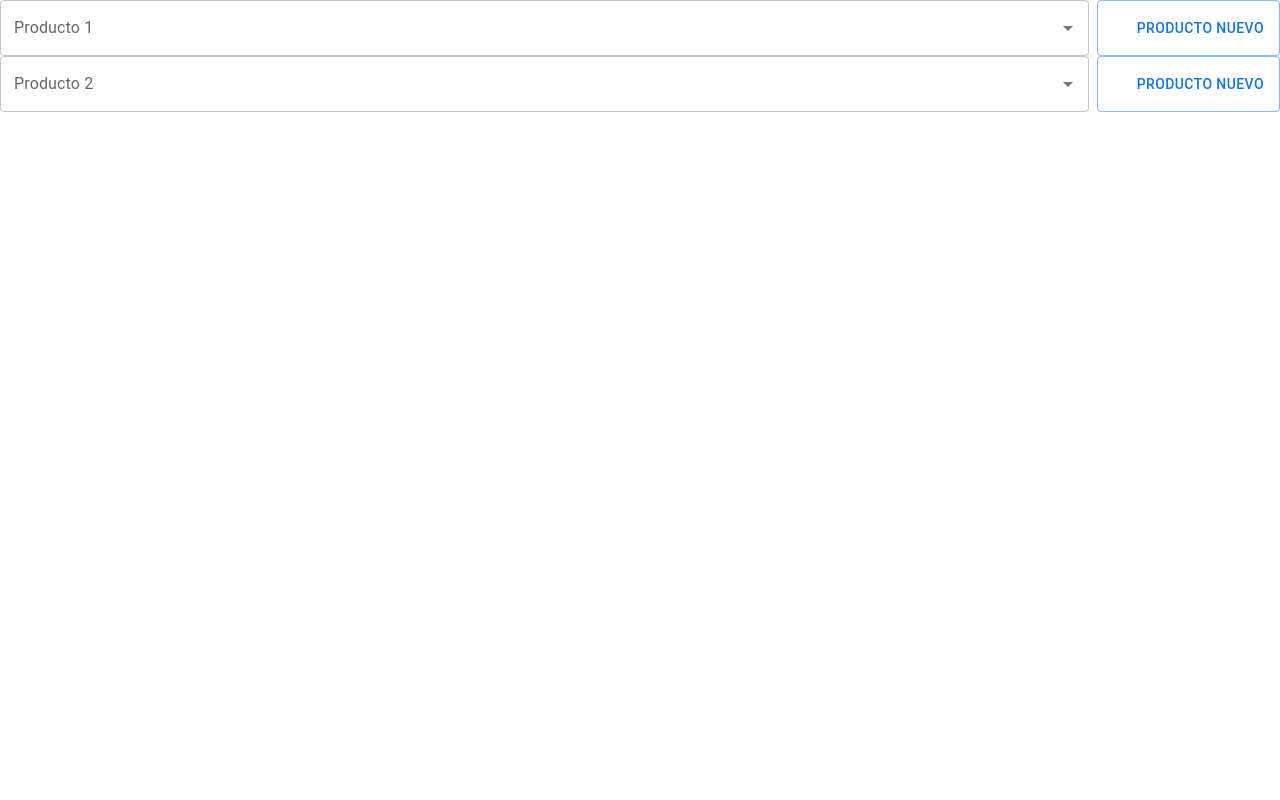
Test: ProductSelect › no crea sin categoría
Click the button "Producto nuevo" in the row of "Producto 1". click: (1188, 28)
box: [1097,0,1279,56]
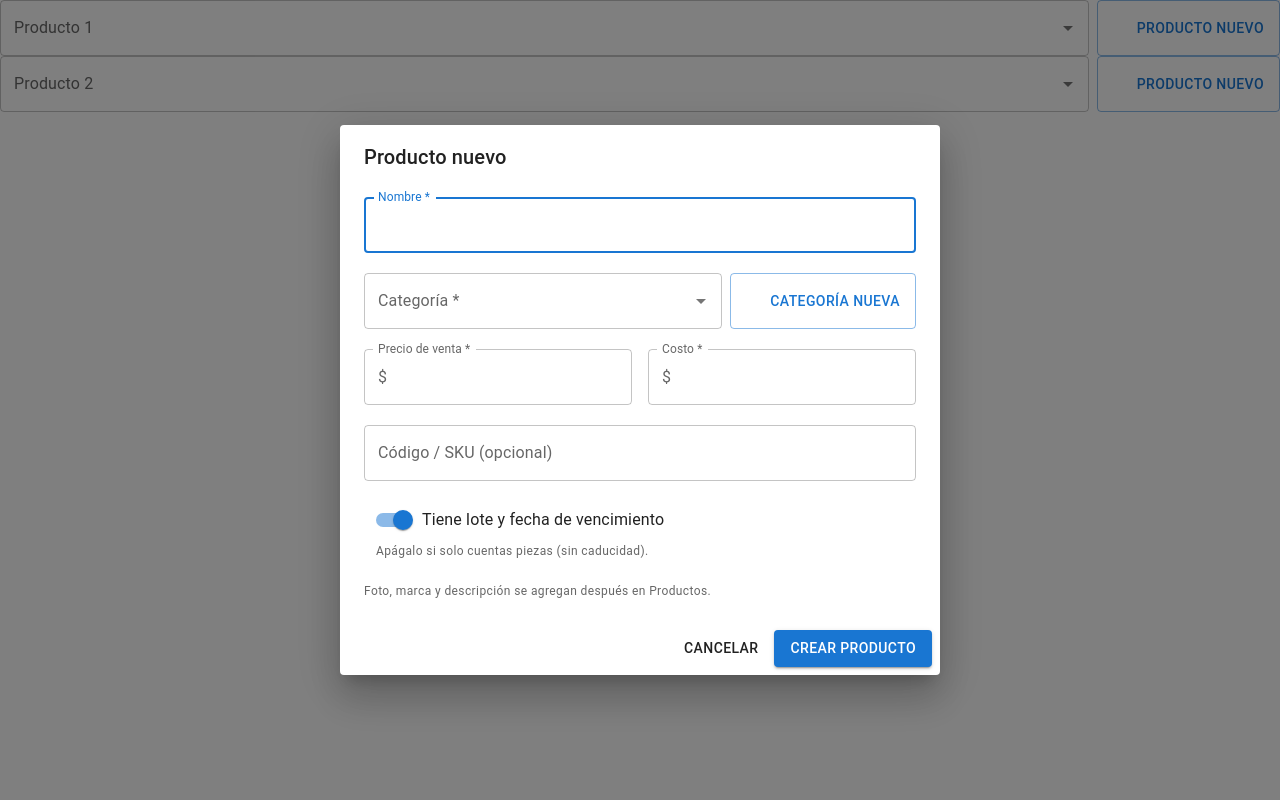
Type "Grillos" into the field labelled "Nombre *". click: (640, 225)
box: [364,197,916,253]
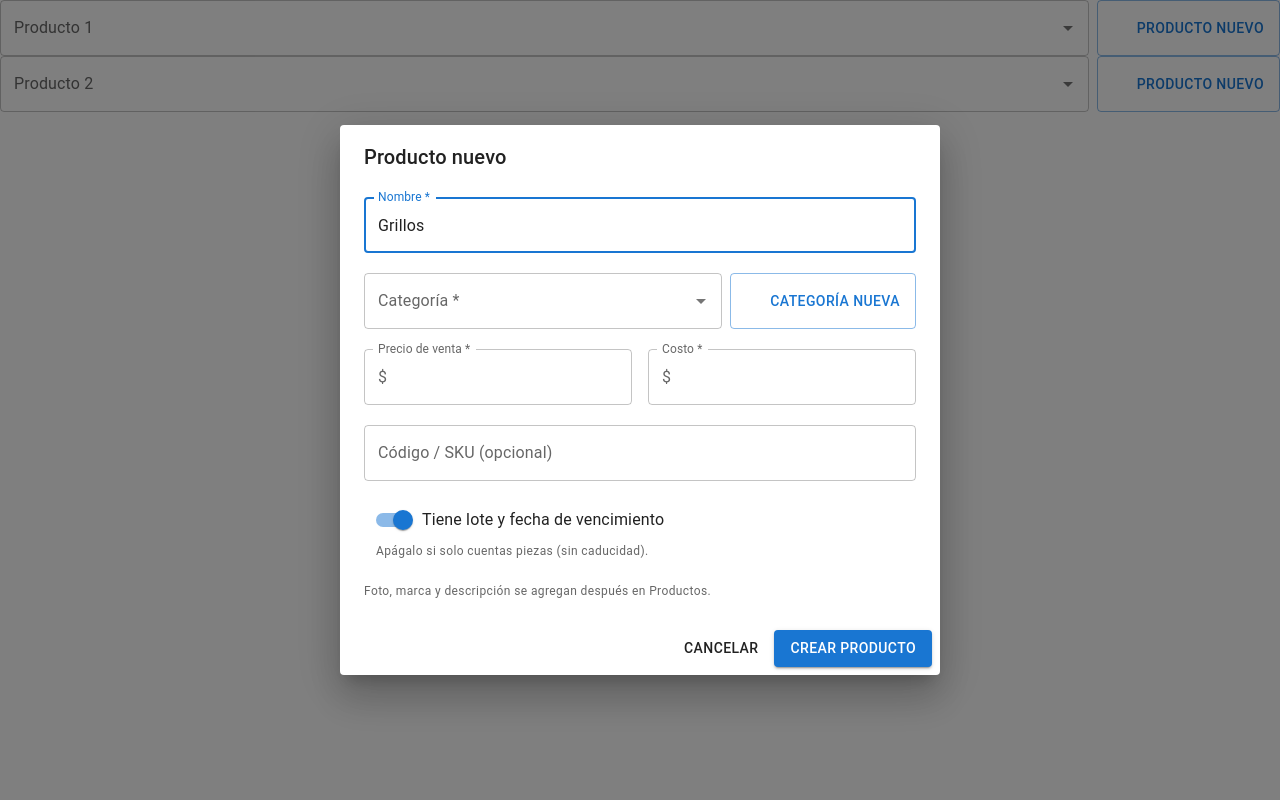
Click the button "Crear producto". click: (853, 648)
box: [774,630,932,667]
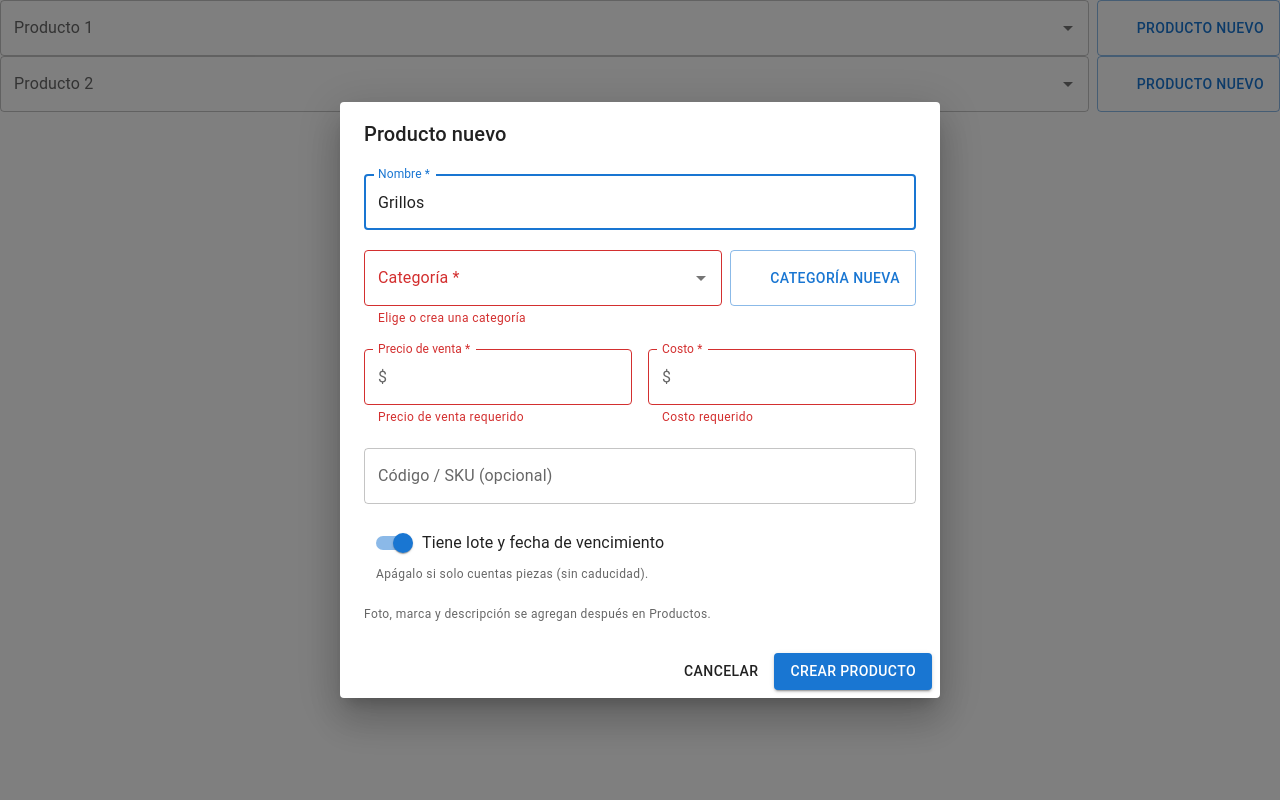
Now the text "Elige o crea una categoría" is shown, box [378,311,526,325]
